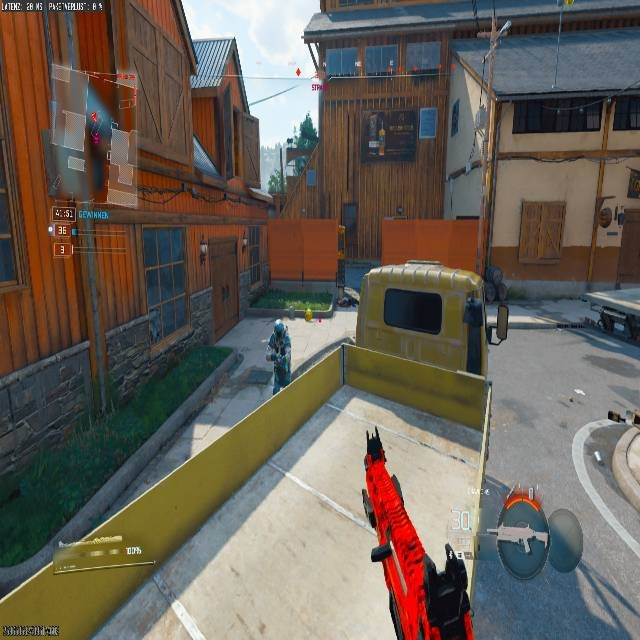head: (273, 320, 286, 337)
player: (266, 320, 292, 393)
